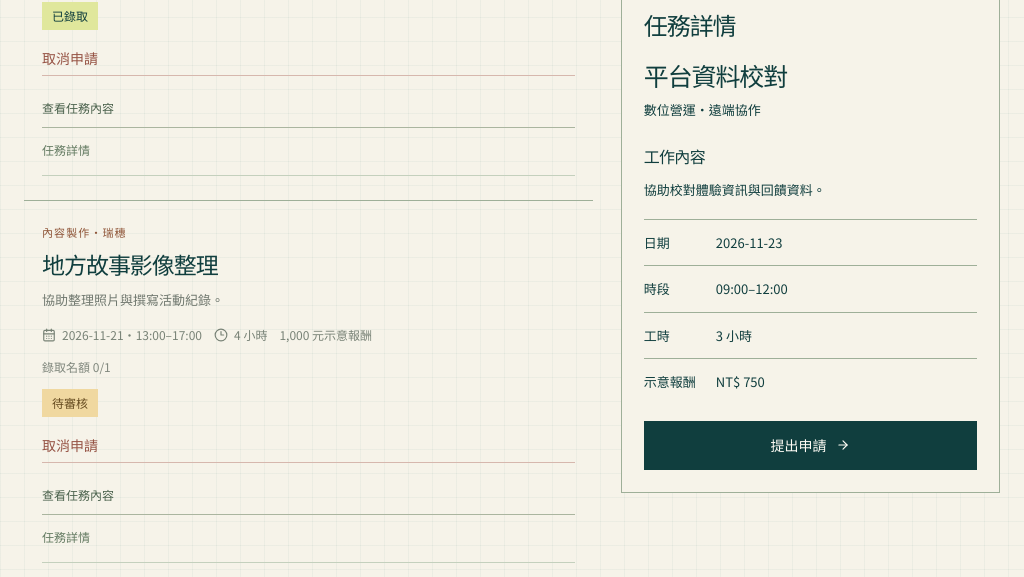
it: youth task view › keeps the selected task and its application status consistent after applying and filtering
(page scrolled)
Expected: the heading "平台資料校對" is shown, 644,57 -> 787,93
Click the button "提出申請". click: (810, 445)
box: 644,420 -> 977,470
(page scrolled)
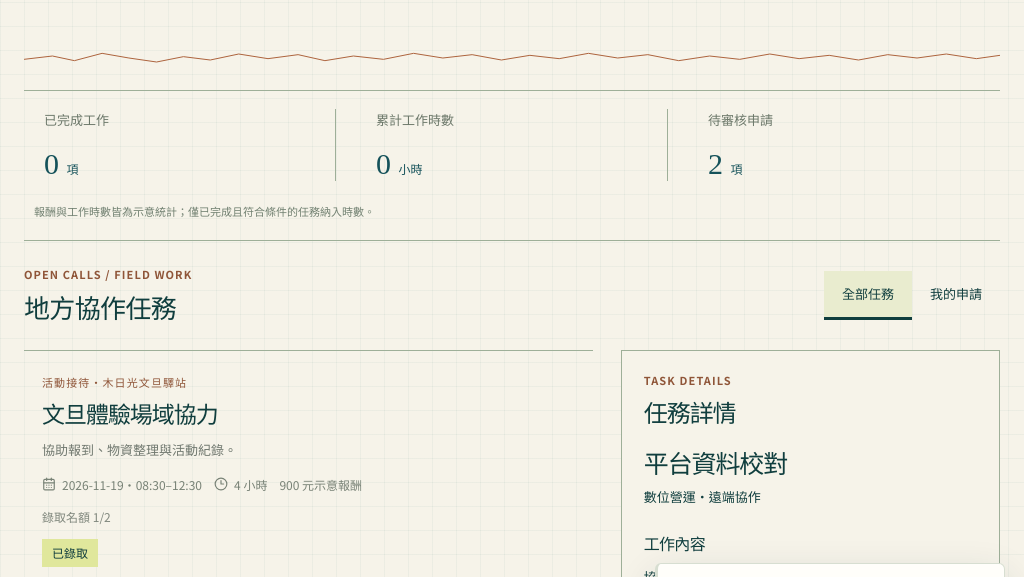
Expected: the heading "平台資料校對" is shown, 644,444 -> 787,480
Click the button "我的申請". click: (956, 295)
box: 912,271 -> 1000,320
(page scrolled)
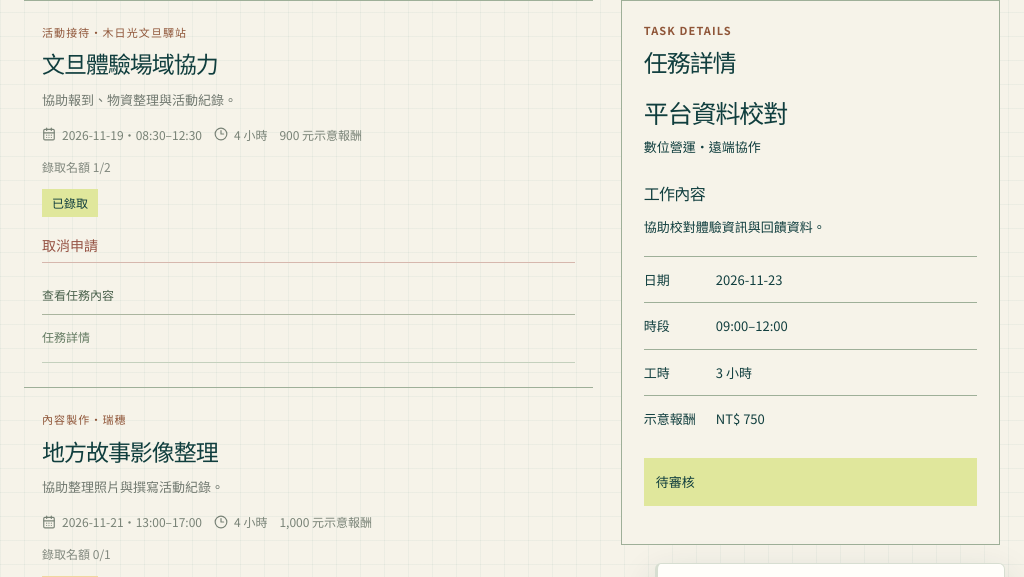
Expected: the heading "平台資料校對" is shown, 644,94 -> 787,130
Click the button "查看任務內容". click: (78, 294)
box: 42,275 -> 575,315
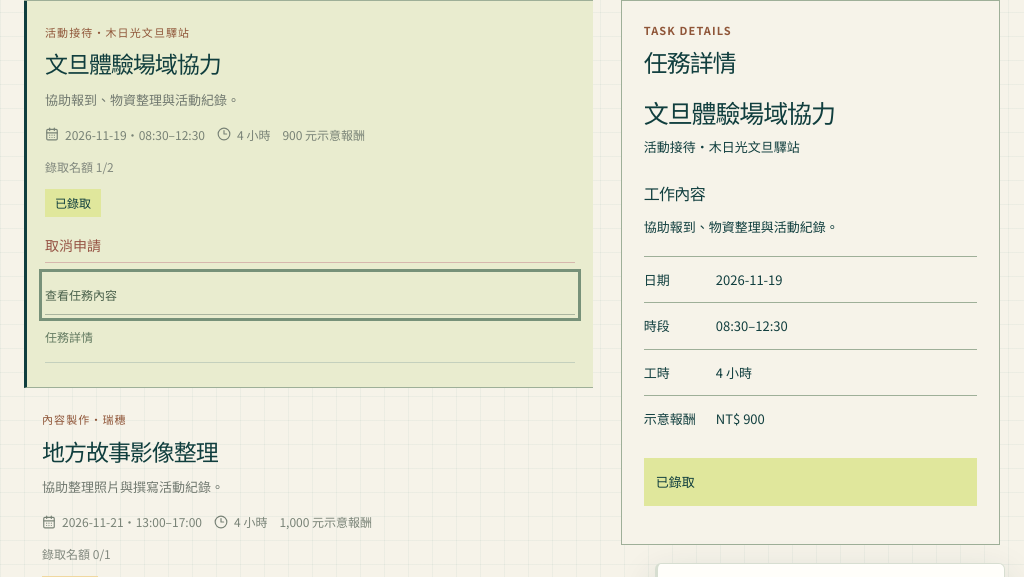
Expected: the heading "文旦體驗場域協力" below "TASK DETAILS" is shown, 644,94 -> 835,130
Expected: the text "已錄取" below "NT$" is shown, 656,472 -> 695,490
